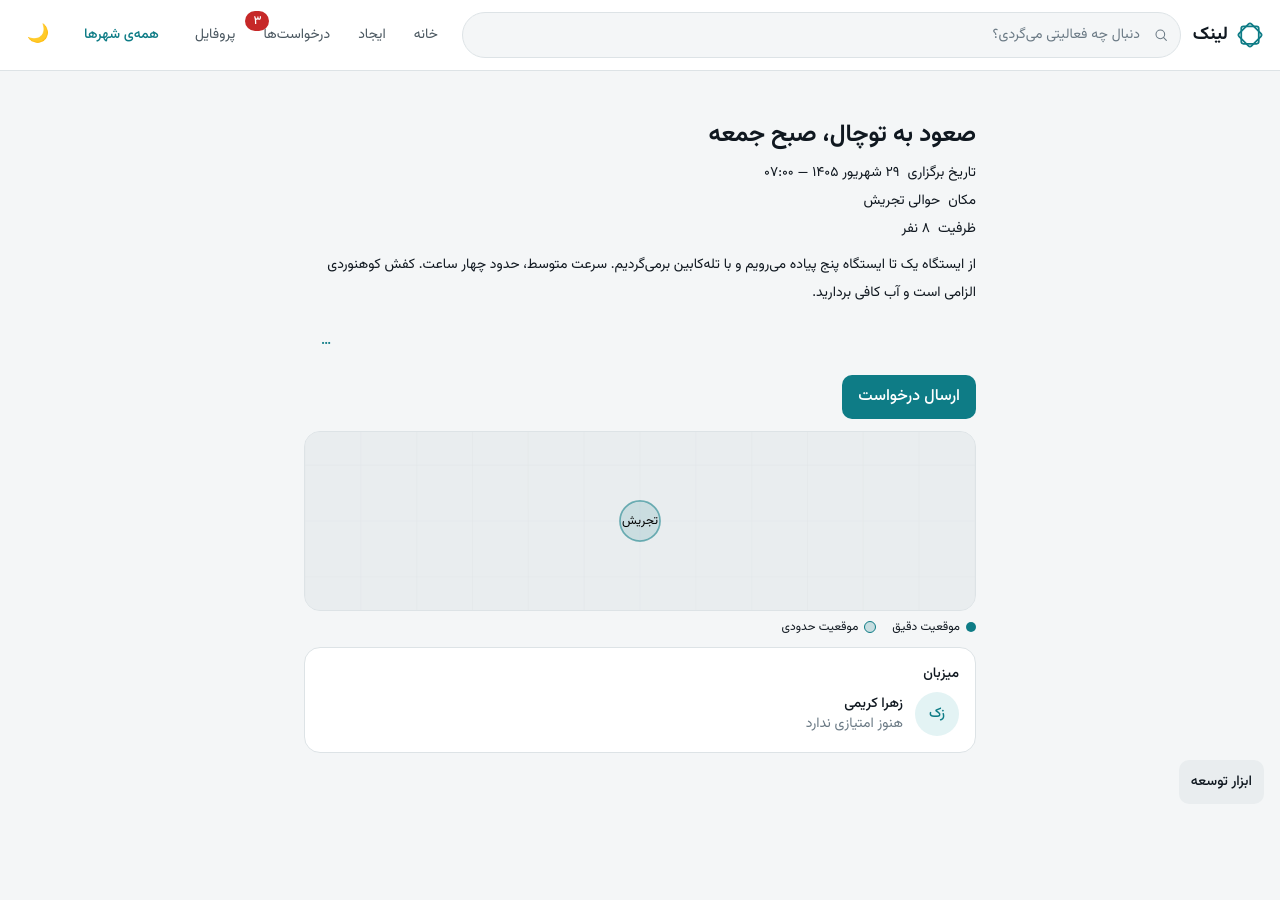
Test: US-70 / US-71 — reporting › ⚠️ BR-U6-44 — the confirmation says RECORDED, never "will be reviewed"
Click the button with test id "safety-menu" at [326, 341], box [304,319,348,363]
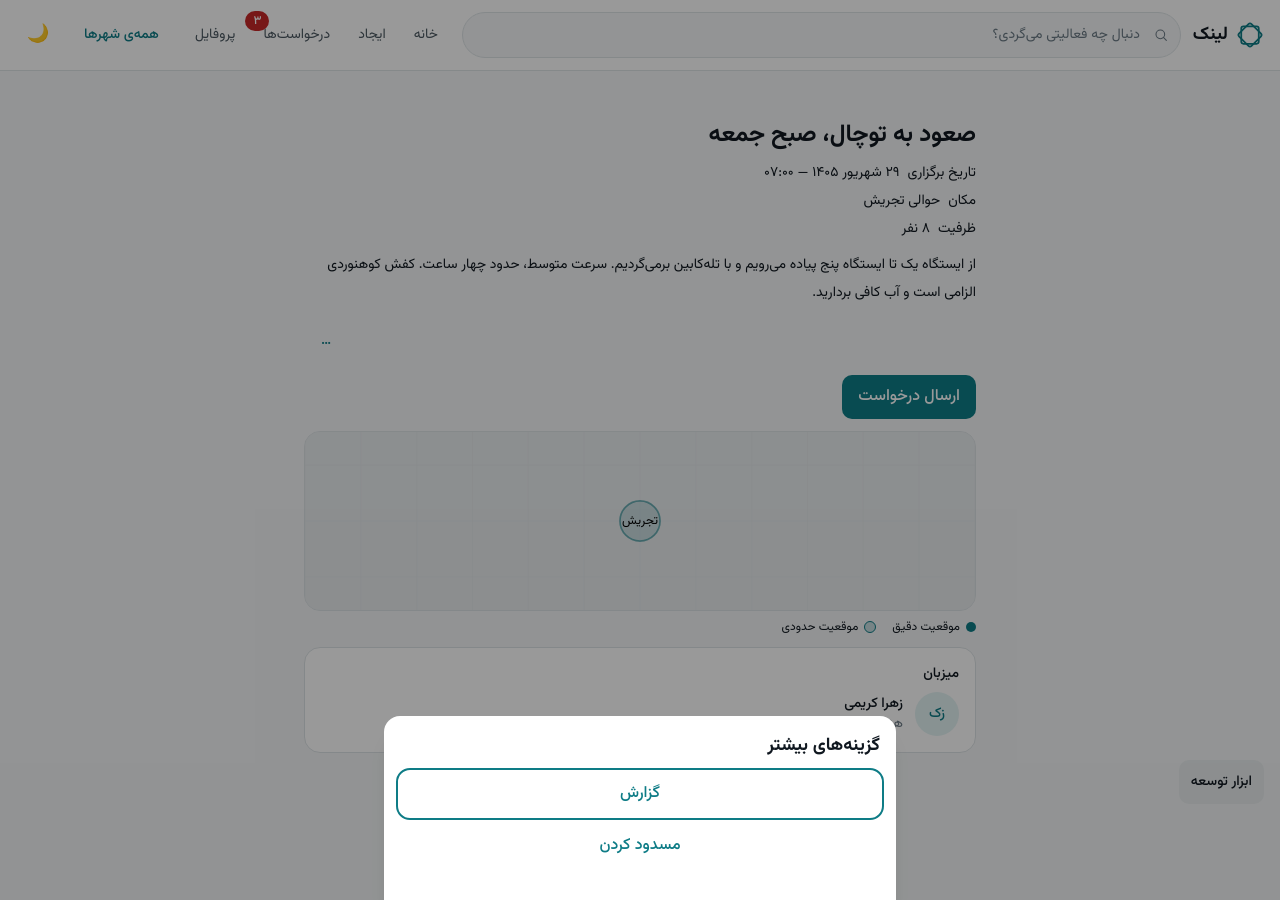
Click the button with test id "safety-menu-report" at [640, 794], box [400,772,880,816]
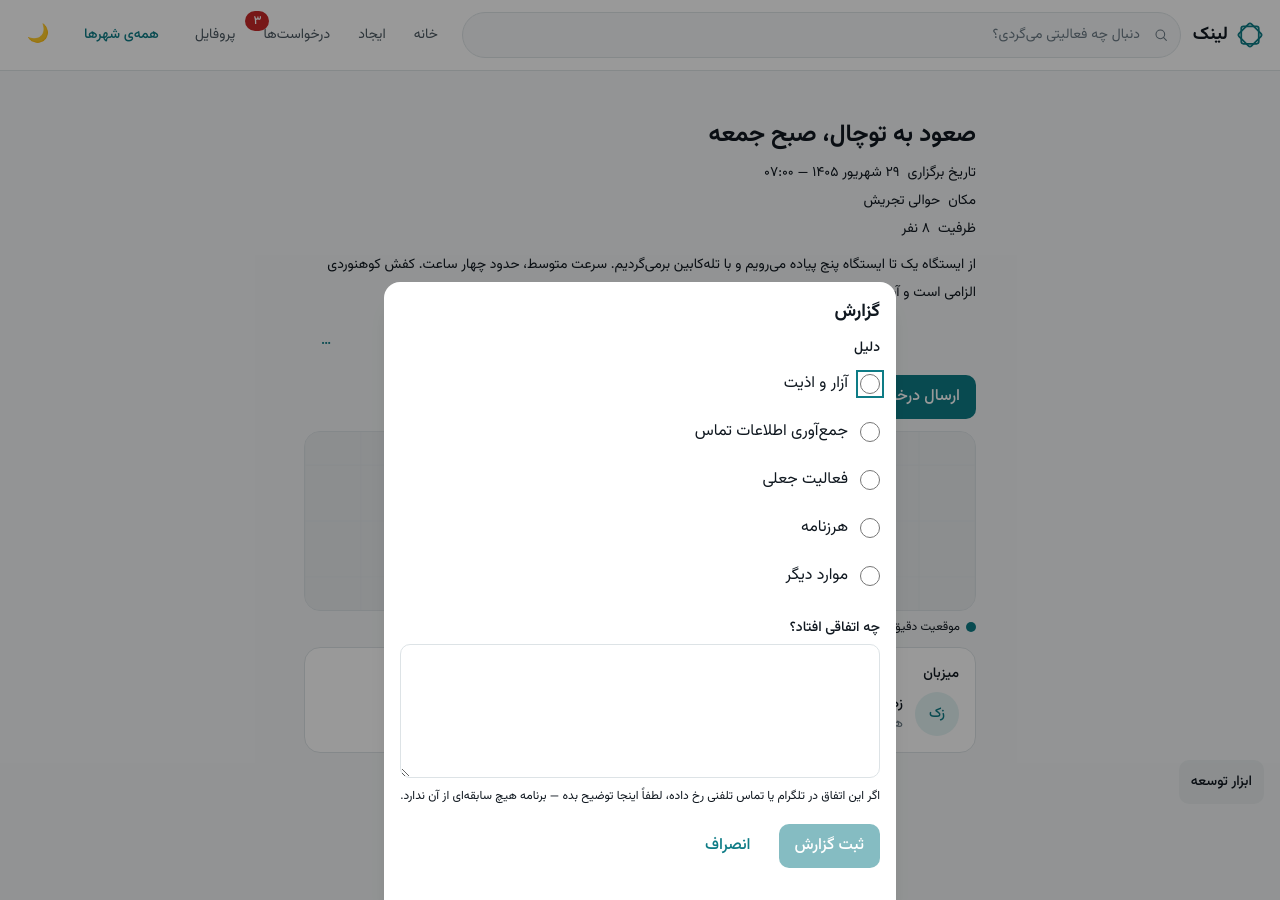
Expected: the element with test id "report-sheet" is shown
Click the radio button labelled "هرزنامه" at [870, 528], box [860,518,880,538]
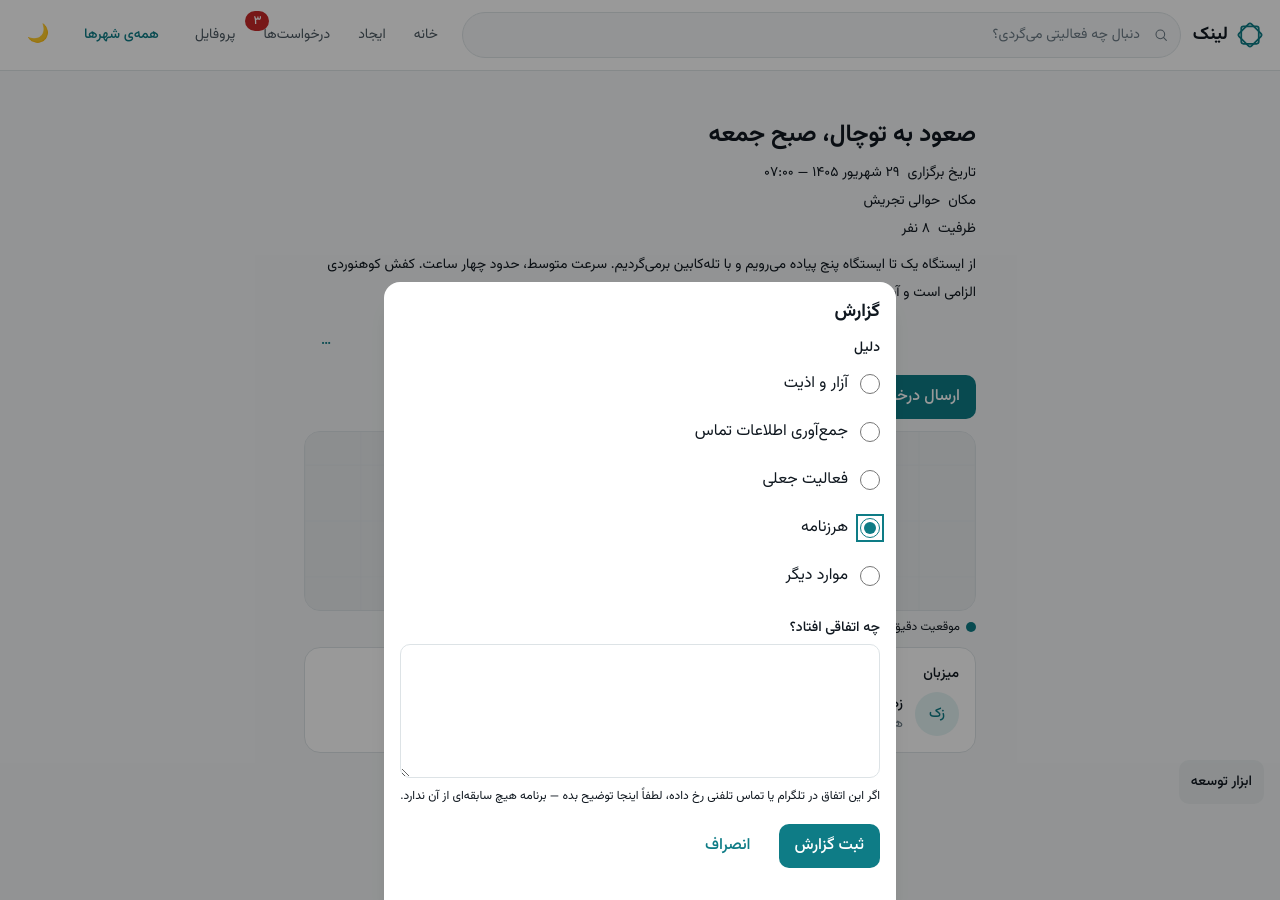
Click the button with test id "report-submit" at [829, 846], box [779,824,880,868]
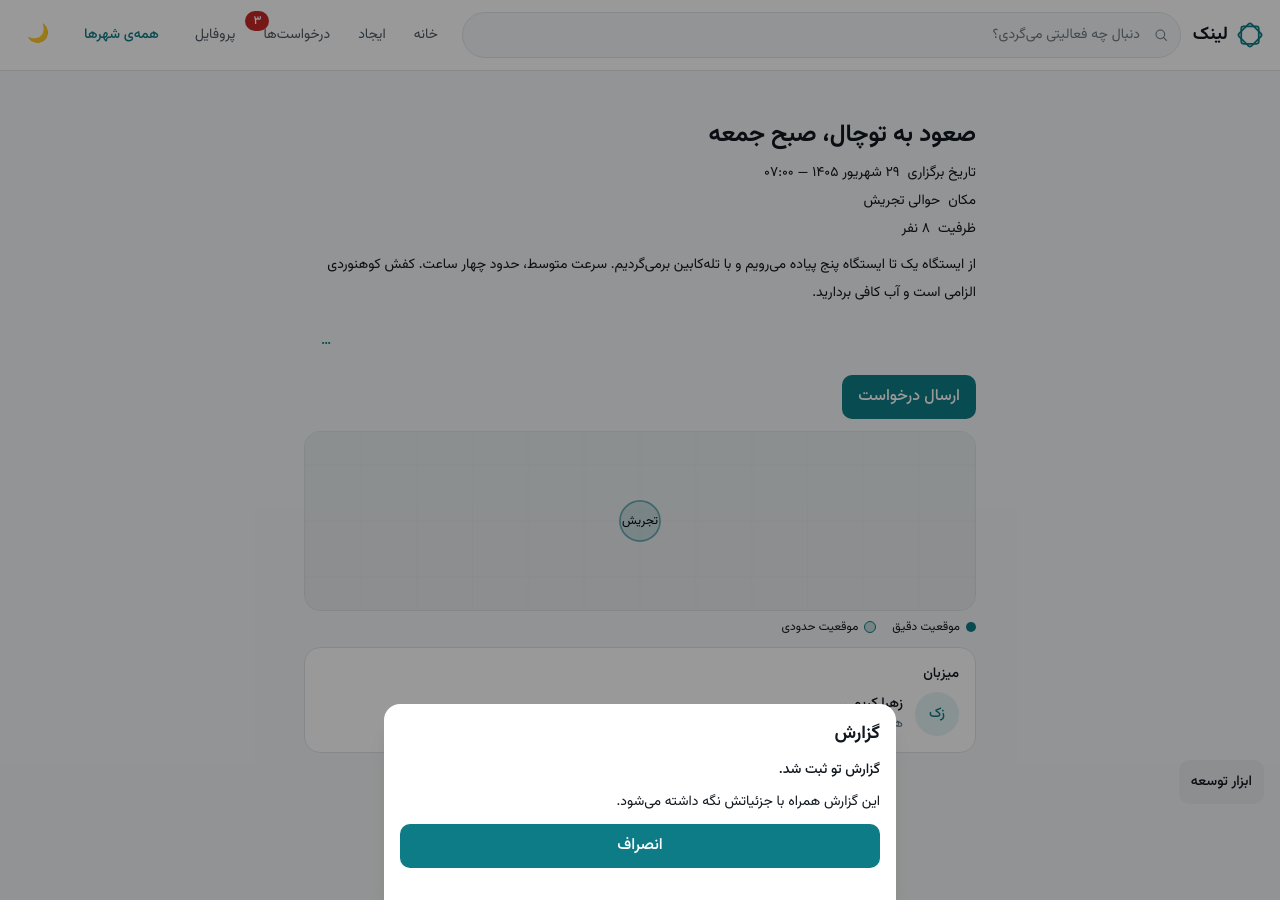
Expected: the element with test id "report-done" shows "گزارش تو ثبت شد.", [779,759,880,781]
